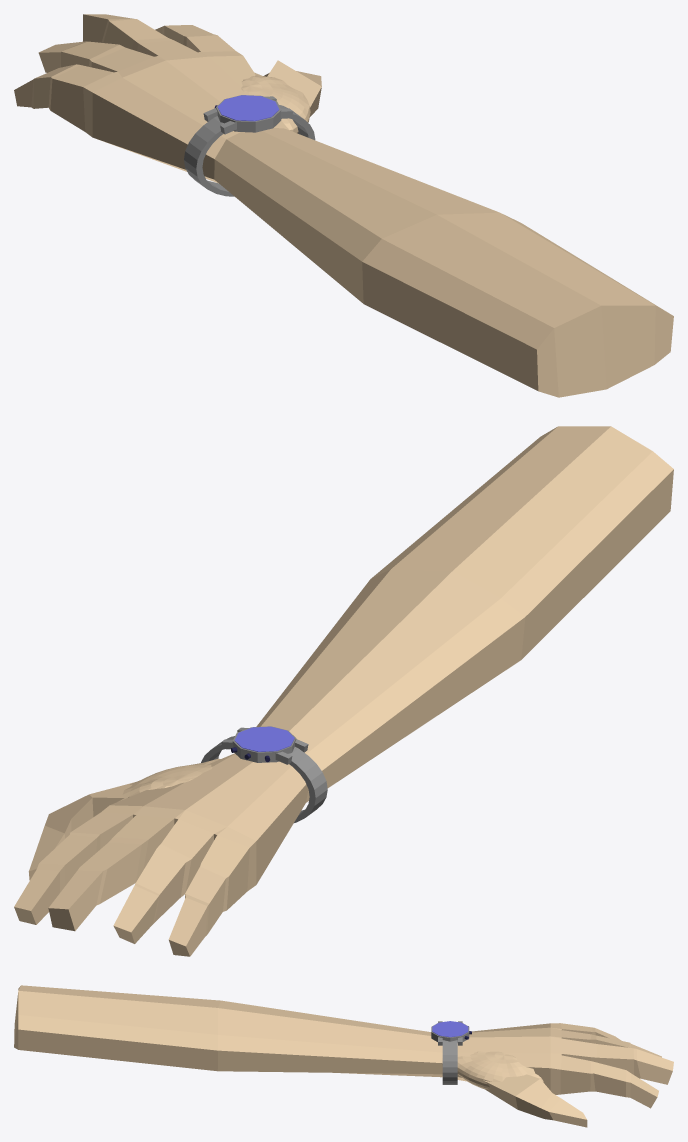
Rendered from HandWithFirstWatch.gltf.
3 views of the same model, one above another, from view 1: azimuth 30°, elevation 25°; view 2: azimuth 150°, elevation 25°; view 3: azimuth 270°, elevation 25° (orthographic). The views are drawn at different scales.
Parts seen in each view (by area): view 1: Cube, Cylinder.004, Cylinder.005_Cylinder.006, Cylinder; view 2: Cube, Cylinder.004, Cylinder.005_Cylinder.006; view 3: Cube, Cylinder.004, Cylinder.005_Cylinder.006.
Part boxes in pixels (x1,y1,x2,y2): Cube: (14, 14, 673, 397); Cylinder.004: (184, 105, 315, 196); Cylinder.005_Cylinder.006: (217, 95, 279, 121); Cylinder: (216, 95, 281, 132); Cube: (14, 426, 673, 956); Cylinder.004: (201, 736, 327, 822); Cylinder.005_Cylinder.006: (234, 726, 294, 751); Cube: (14, 985, 673, 1127); Cylinder.004: (442, 1040, 457, 1084); Cylinder.005_Cylinder.006: (432, 1021, 468, 1037).
Size of the model in its own units: 3.01 by 2.04 by 12.45.
